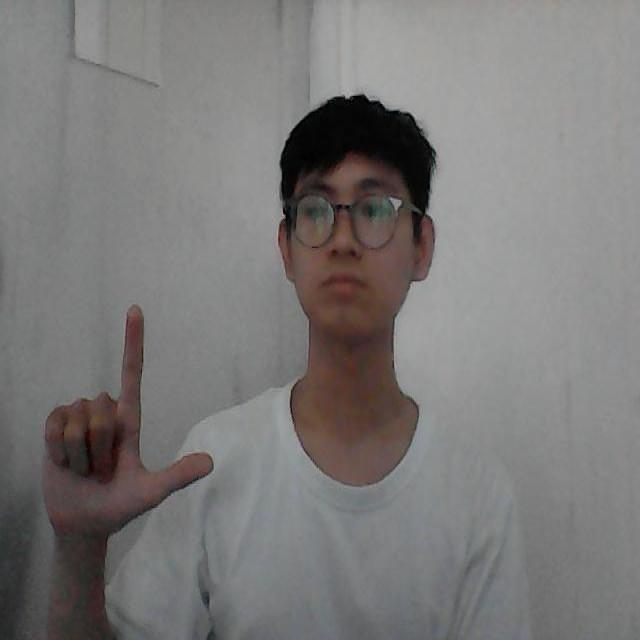L: (30, 283, 231, 586)
